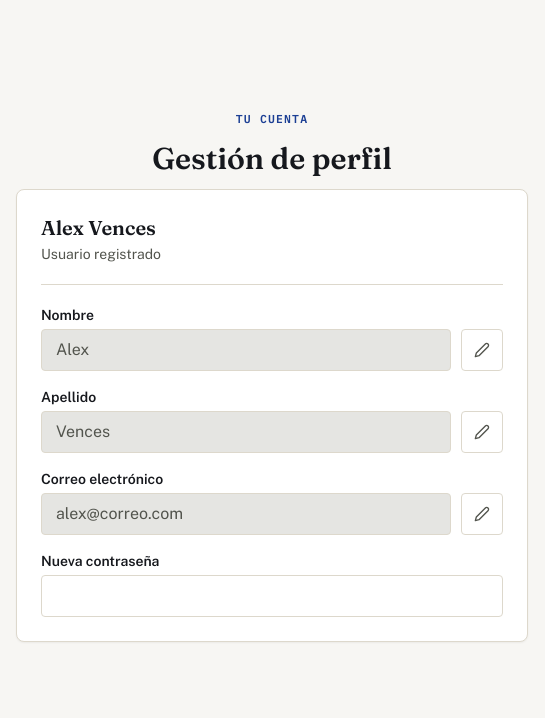
Test: GestionarPerfil › a later successful save clears an earlier error
The width and height of the screenshot is (545, 718).
Click the button named "Editar nombre": (482, 350) [461,329,503,371]
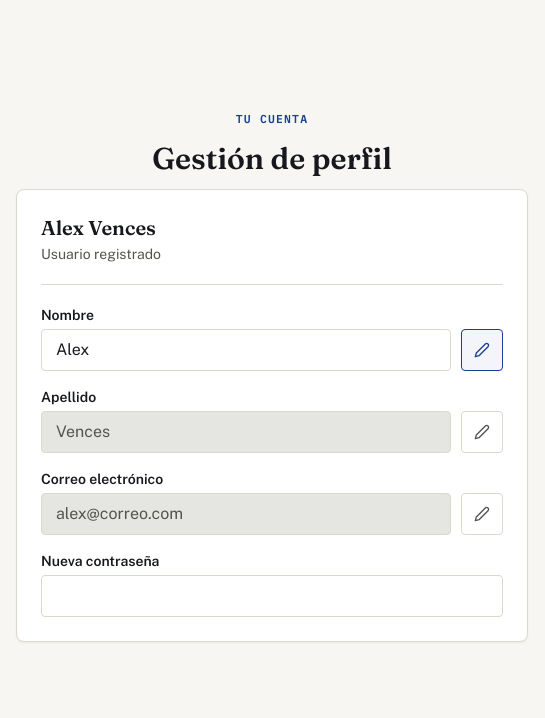
Replace the text in the field labelled "Nombre" with "Alexis": (246, 350) [41,329,451,371]
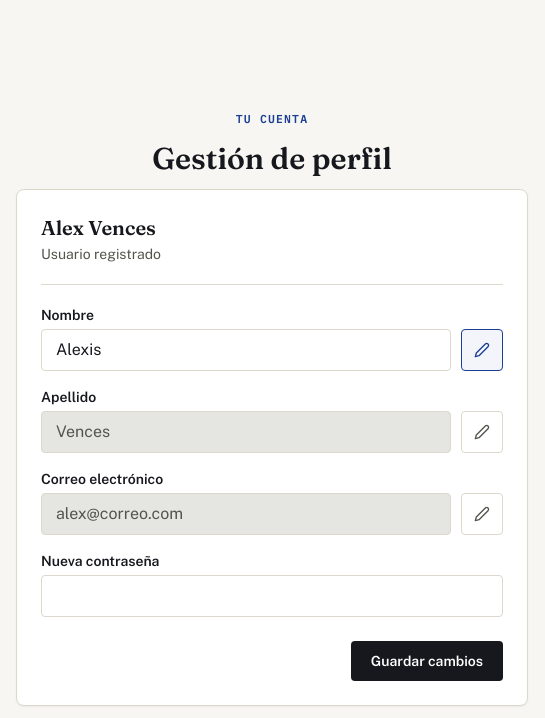
Click the button "Guardar cambios": (427, 661) [351,641,503,681]
(page scrolled)
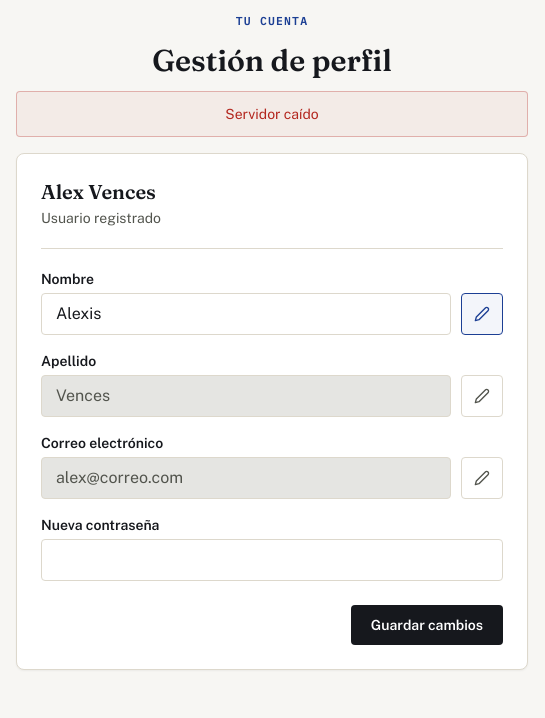
Result: the text "Servidor caído" is shown at [16,91,528,137]
Click the button "Guardar cambios": (427, 625) [351,605,503,645]
(page scrolled)
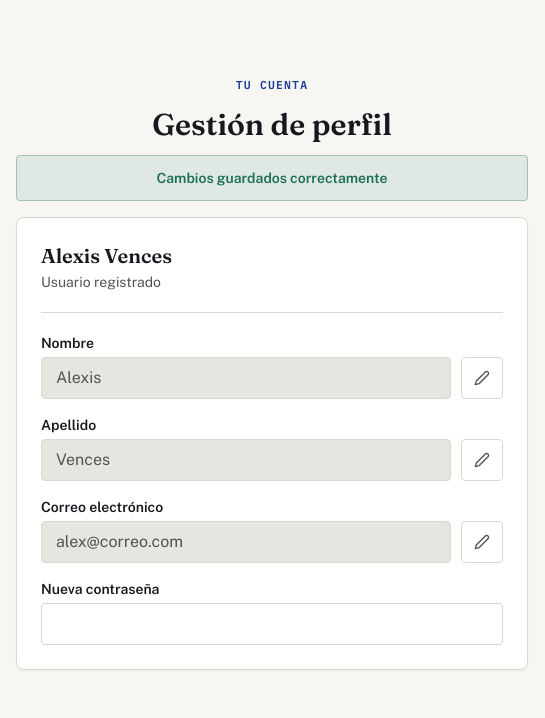
Result: the text "Cambios guardados correctamente" is shown at [16,155,528,201]
Result: the text "Servidor caído" is gone
